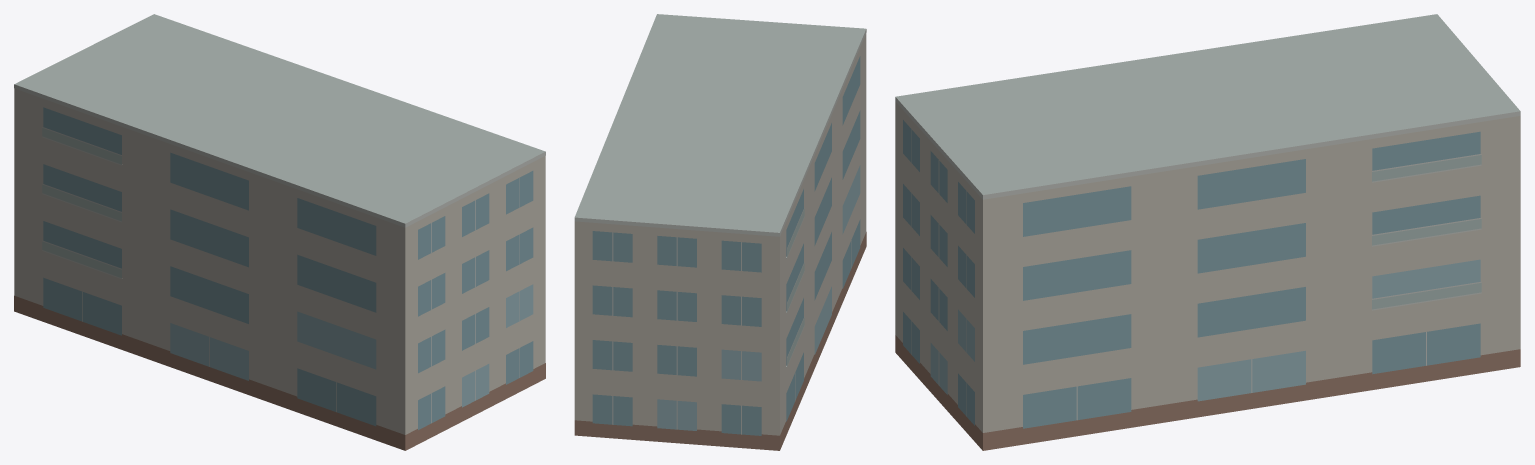
The model's file is survey-upis-32864508.glb.
3 renders of one model, left to right at view 1: azimuth 30°, elevation 25°; view 2: azimuth 150°, elevation 25°; view 3: azimuth 270°, elevation 25°, orthographic. The views are drawn at different scales.
Parts seen in each view (by area): view 1: survey-upis-32864508.tmp; view 2: survey-upis-32864508.tmp; view 3: survey-upis-32864508.tmp.
Boxes of the visible parts, <box> form: survey-upis-32864508.tmp: <box>14,14,545,450</box>; survey-upis-32864508.tmp: <box>574,14,866,450</box>; survey-upis-32864508.tmp: <box>895,14,1520,450</box>.
Bounding box in the file's own units: 20.82 × 13.7 × 30.37.
